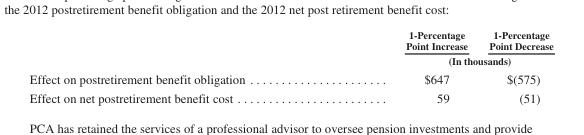table: (28, 29, 552, 104)
table column: (28, 29, 324, 104), (324, 29, 477, 104), (477, 29, 552, 104)
table column header: (28, 29, 552, 68)
table row: (28, 29, 552, 52), (28, 68, 552, 87), (28, 87, 552, 104), (28, 52, 552, 68)
table spanning cell: (324, 52, 552, 68)
